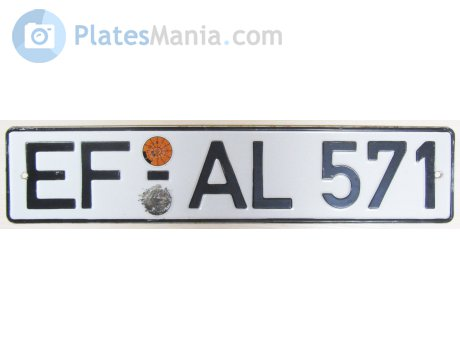License Plates: (9, 130, 440, 212)
